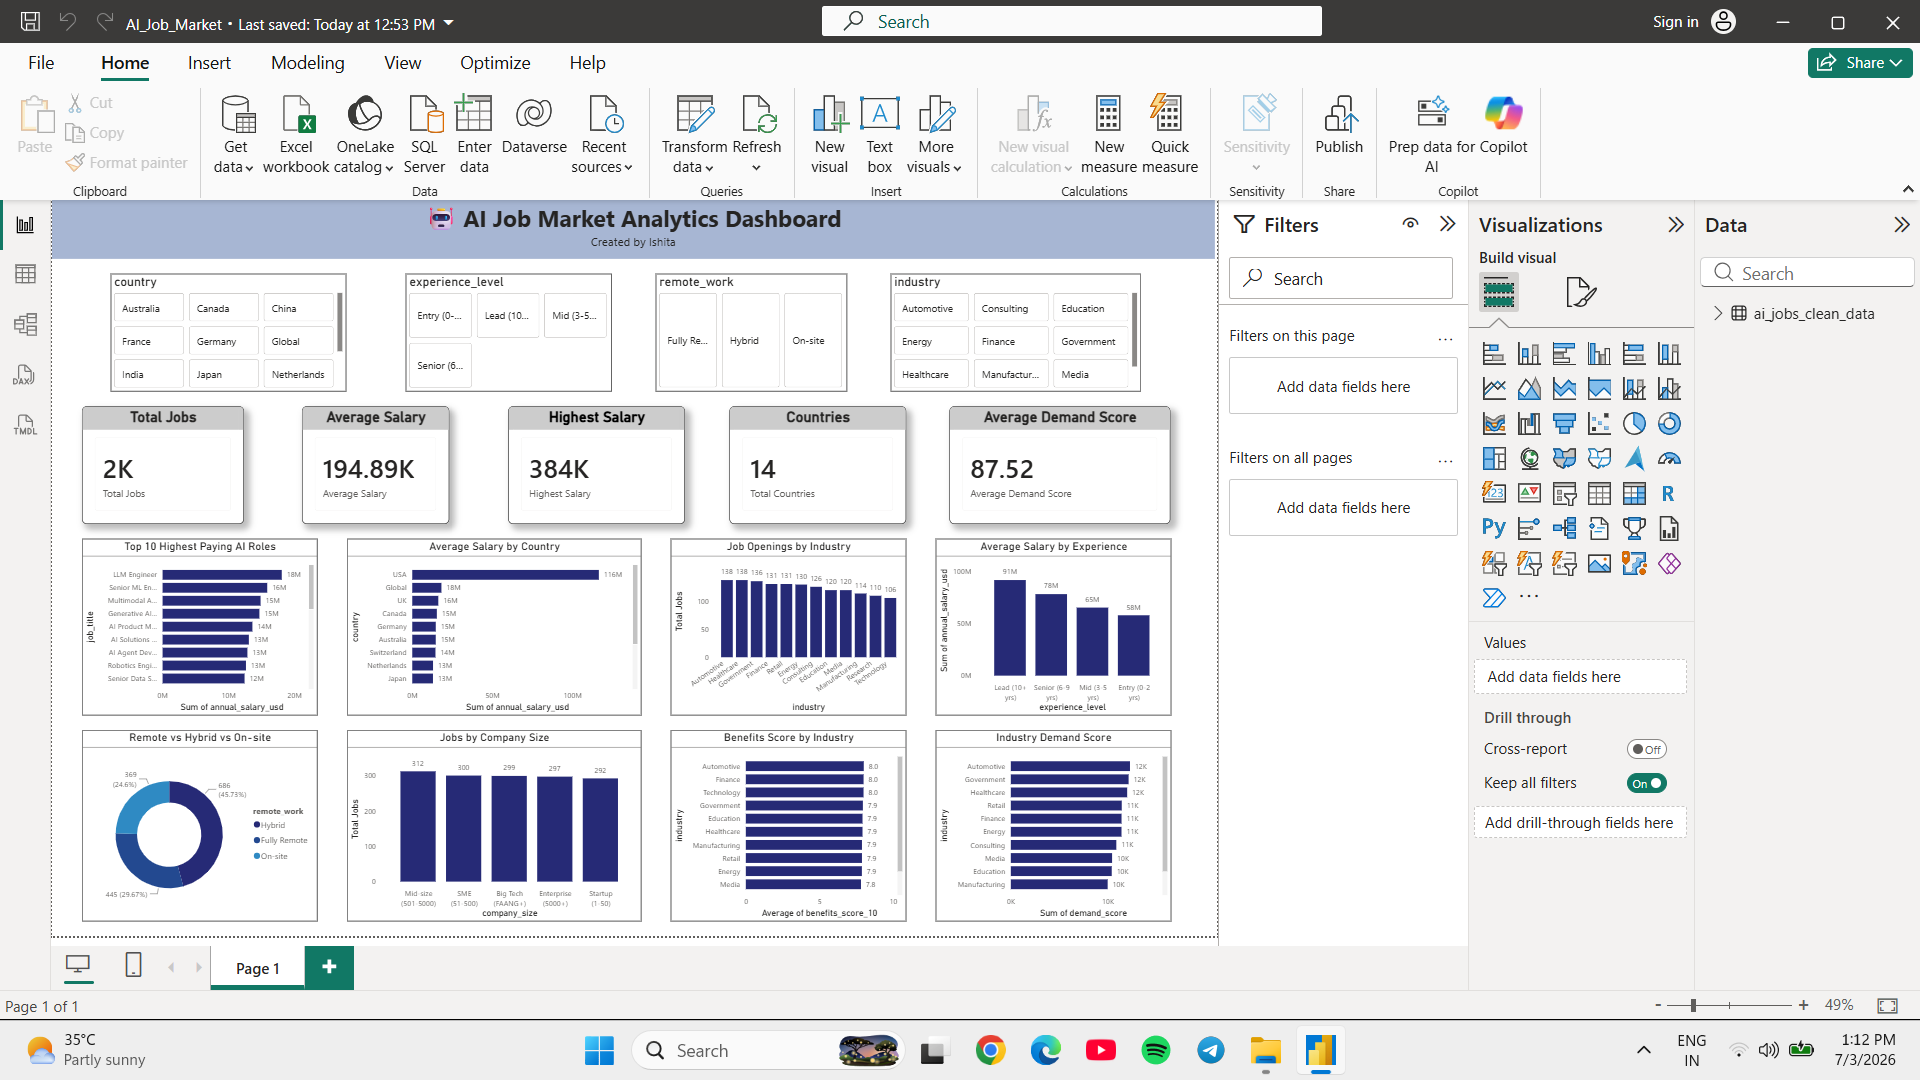

This screenshot's page, from the dashboard's own definition file:
{"tool":"powerbi","page":{"name":"Page 1","canvas":[1900,1200],"ordinal":0},"visuals":[{"type":"textbox","box":[0,0,1896,96],"z":0},{"type":"advancedSlicerVisual","fields":{"Values":["ai_jobs_clean_data.country"]},"box":[96,120,384,192],"z":1},{"type":"advancedSlicerVisual","fields":{"Values":["ai_jobs_clean_data.experience_level"]},"box":[576,120,336,192],"z":2},{"type":"advancedSlicerVisual","fields":{"Values":["ai_jobs_clean_data.remote_work"]},"box":[984,120,312,192],"z":3},{"type":"advancedSlicerVisual","fields":{"Values":["ai_jobs_clean_data.industry"]},"box":[1368,120,408,192],"z":4},{"type":"cardVisual","title":"Total  Jobs","fields":{"Data":["ai_jobs_clean_data.Total Jobs"]},"box":[48,336,264,192],"z":5},{"type":"cardVisual","title":"Average Salary","fields":{"Data":["ai_jobs_clean_data.Average Salary"]},"box":[408,336,240,192],"z":6},{"type":"cardVisual","title":"Highest Salary","fields":{"Data":["ai_jobs_clean_data.Highest Salary"]},"box":[744,336,288,192],"z":7},{"type":"cardVisual","title":"Countries","fields":{"Data":["ai_jobs_clean_data.Total Countries"]},"box":[1104,336,288,192],"z":8},{"type":"cardVisual","title":"Average Demand Score","fields":{"Data":["ai_jobs_clean_data.Average Demand Score"]},"box":[1464,336,360,192],"z":9},{"type":"clusteredBarChart","title":"Top 10 Highest Paying AI Roles","fields":{"Category":["ai_jobs_clean_data.job_title"],"Y":["Sum(ai_jobs_clean_data.annual_salary_usd)"]},"box":[48,552,384,288],"z":10},{"type":"clusteredBarChart","title":"Average Salary by Country","fields":{"Category":["ai_jobs_clean_data.country"],"Y":["Sum(ai_jobs_clean_data.annual_salary_usd)"]},"box":[480,552,480,288],"z":11},{"type":"clusteredColumnChart","title":"Job Openings by Industry","fields":{"Category":["ai_jobs_clean_data.industry"],"Y":["ai_jobs_clean_data.Total Jobs"]},"box":[1008,552,384,288],"z":12},{"type":"clusteredColumnChart","title":"Average Salary by Experience","fields":{"Category":["ai_jobs_clean_data.experience_level"],"Y":["Sum(ai_jobs_clean_data.annual_salary_usd)"]},"box":[1440,552,384,288],"z":13},{"type":"donutChart","title":"Remote vs Hybrid vs On-site","fields":{"Category":["ai_jobs_clean_data.remote_work"],"Y":["ai_jobs_clean_data.Total Jobs"]},"box":[48,864,384,312],"z":14},{"type":"clusteredColumnChart","title":"Jobs by Company Size","fields":{"Category":["ai_jobs_clean_data.company_size"],"Y":["ai_jobs_clean_data.Total Jobs"]},"box":[480,864,480,312],"z":15},{"type":"clusteredBarChart","title":"Industry Demand Score","fields":{"Category":["ai_jobs_clean_data.industry"],"Y":["Sum(ai_jobs_clean_data.demand_score)"]},"box":[1440,864,384,312],"z":16},{"type":"clusteredBarChart","title":"Benefits Score by Industry","fields":{"Category":["ai_jobs_clean_data.industry"],"Y":["Avg(ai_jobs_clean_data.benefits_score_10)"]},"box":[1008,864,384,312],"z":17}]}

Visuals, with their boxes on the page's 1900x1200 design canvas (x1, y1, x2, y2). These are canvas units, not pixel positions in the 1920x1080 screenshot, which may show the page scaled, cropped or inside an application window:
textbox: 0,0,1896,96
advancedSlicerVisual - ai_jobs_clean_data.country: 96,120,480,312
advancedSlicerVisual - ai_jobs_clean_data.experience_level: 576,120,912,312
advancedSlicerVisual - ai_jobs_clean_data.remote_work: 984,120,1296,312
advancedSlicerVisual - ai_jobs_clean_data.industry: 1368,120,1776,312
"Total  Jobs" cardVisual: 48,336,312,528
"Average Salary" cardVisual: 408,336,648,528
"Highest Salary" cardVisual: 744,336,1032,528
"Countries" cardVisual: 1104,336,1392,528
"Average Demand Score" cardVisual: 1464,336,1824,528
"Top 10 Highest Paying AI Roles" clusteredBarChart: 48,552,432,840
"Average Salary by Country" clusteredBarChart: 480,552,960,840
"Job Openings by Industry" clusteredColumnChart: 1008,552,1392,840
"Average Salary by Experience" clusteredColumnChart: 1440,552,1824,840
"Remote vs Hybrid vs On-site" donutChart: 48,864,432,1176
"Jobs by Company Size" clusteredColumnChart: 480,864,960,1176
"Industry Demand Score" clusteredBarChart: 1440,864,1824,1176
"Benefits Score by Industry" clusteredBarChart: 1008,864,1392,1176
